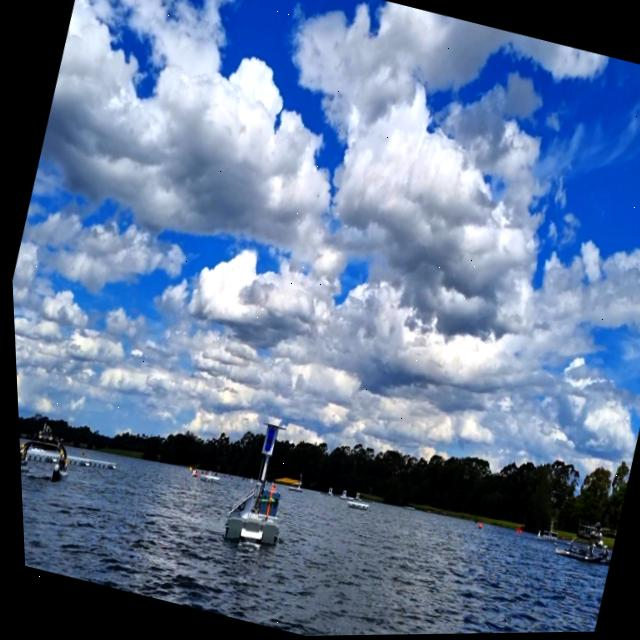led: (257, 426, 273, 455)
